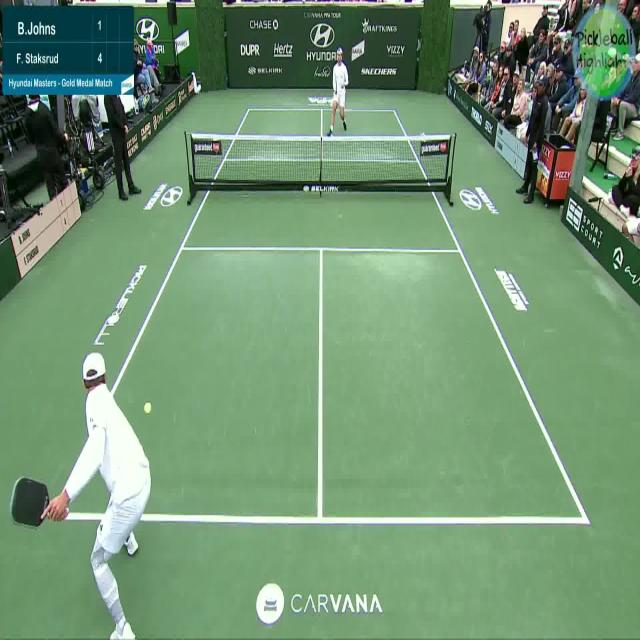ball: (141, 396, 156, 426)
